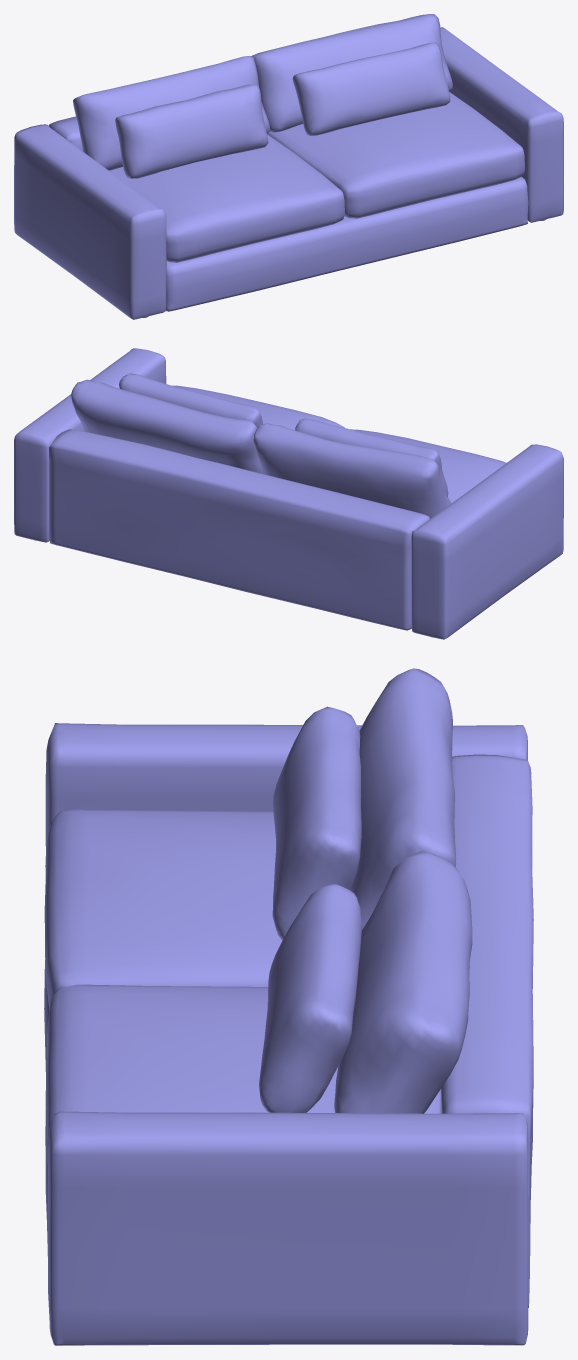
File: sofa.glb
The picture shows the model from 3 angles, top to bottom: view 1: azimuth 30°, elevation 25°; view 2: azimuth 150°, elevation 25°; view 3: azimuth 270°, elevation 25°; orthographic projection. The views are drawn at different scales.
Visible parts, largest first — view 1: mirabel_98_pewter; view 2: mirabel_98_pewter; view 3: mirabel_98_pewter.
Boxes of the visible parts, x1=… form: mirabel_98_pewter: x1=14, y1=14, x2=563, y2=319; mirabel_98_pewter: x1=14, y1=348, x2=563, y2=639; mirabel_98_pewter: x1=44, y1=668, x2=533, y2=1345.
Bounding box in the file's own units: 125 × 42.01 × 61.15.
